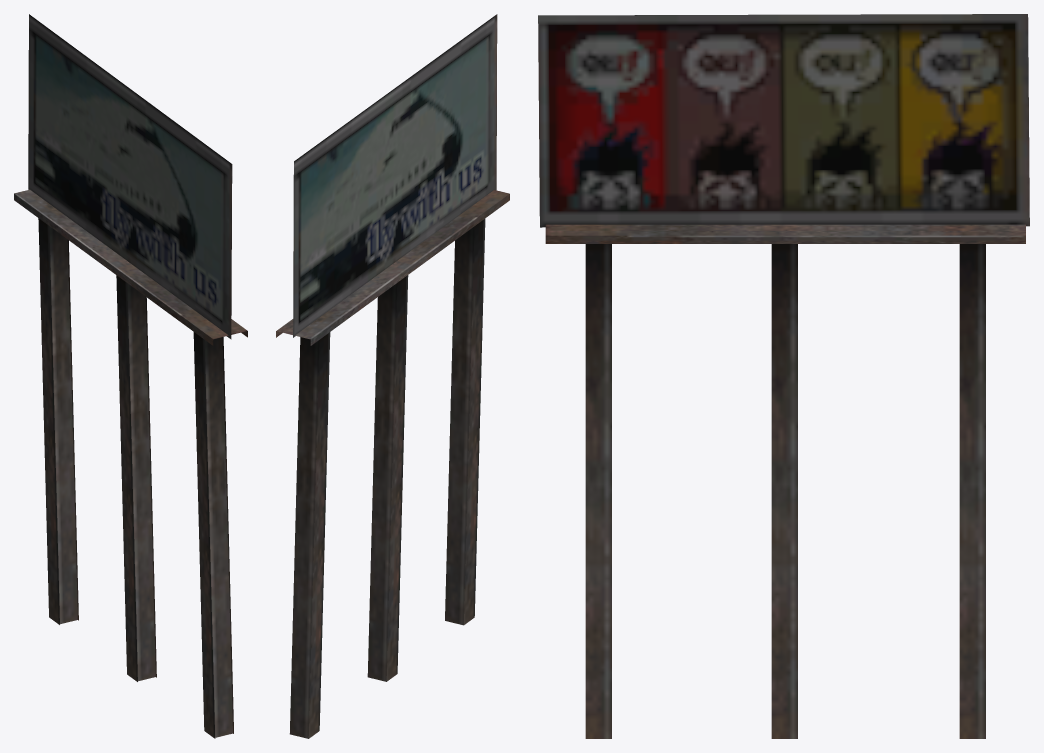
File: Environment - Prop - Billboard 01 - PMBillbrd03.glb
3 views of the same model, side by side, from view 1: azimuth 30°, elevation 25°; view 2: azimuth 150°, elevation 25°; view 3: azimuth 270°, elevation 25° (orthographic). The views are drawn at different scales.
Parts seen in each view (by area): view 1: PMBILLBRD03; view 2: PMBILLBRD03; view 3: PMBILLBRD03.
Part boxes in pixels (x1,y1,x2,y2): PMBILLBRD03: [14, 14, 247, 738]; PMBILLBRD03: [276, 14, 509, 738]; PMBILLBRD03: [538, 14, 1029, 738].
Size of the model in its own units: 3.53 by 53.38 by 33.41.
Materials: 1 (1 with a texture image).
